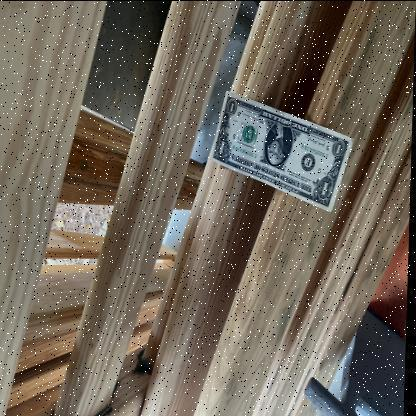dollar_front: (211, 89, 355, 212)
